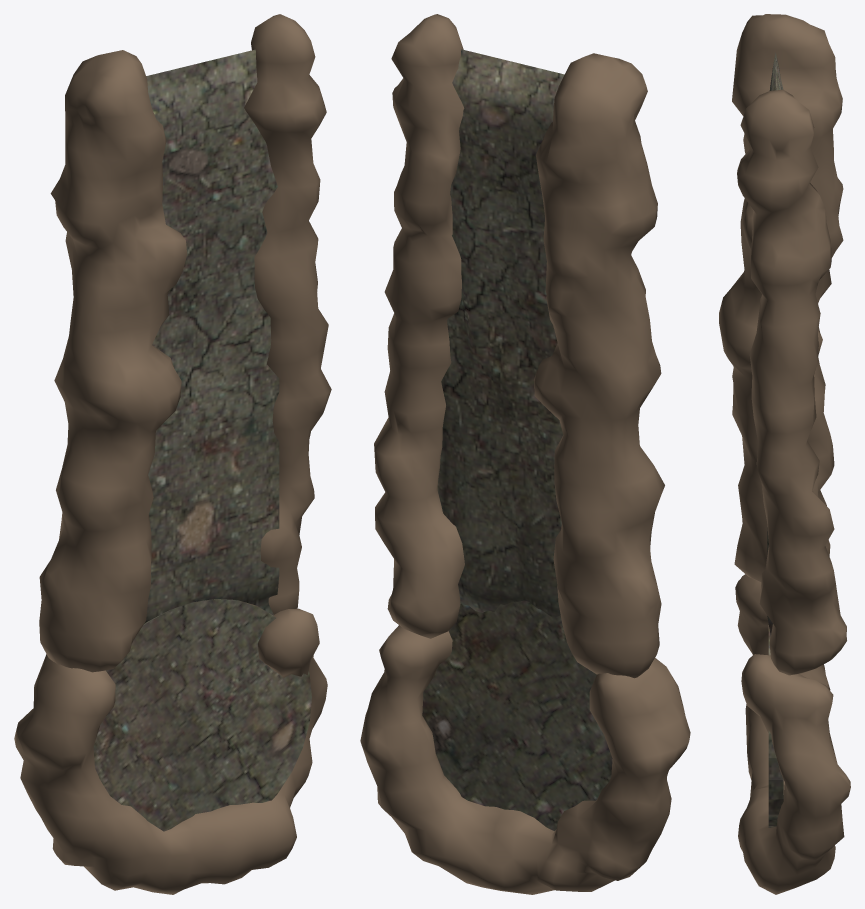
The model's file is Dirt Path.fbx.
3 renders of one model, left to right at view 1: azimuth 30°, elevation 25°; view 2: azimuth 150°, elevation 25°; view 3: azimuth 270°, elevation 25°, orthographic. The views are drawn at different scales.
Visible parts, largest first — view 1: Dirt Path; view 2: Dirt Path; view 3: Dirt Path.
Boxes of the visible parts, x1,y1,x2,y2 form: Dirt Path: (14,14,331,894); Dirt Path: (360,14,690,894); Dirt Path: (719,14,850,894).
Size of the model in its own units: 443 by 1175 by 173.
2 materials, 1 textured.
